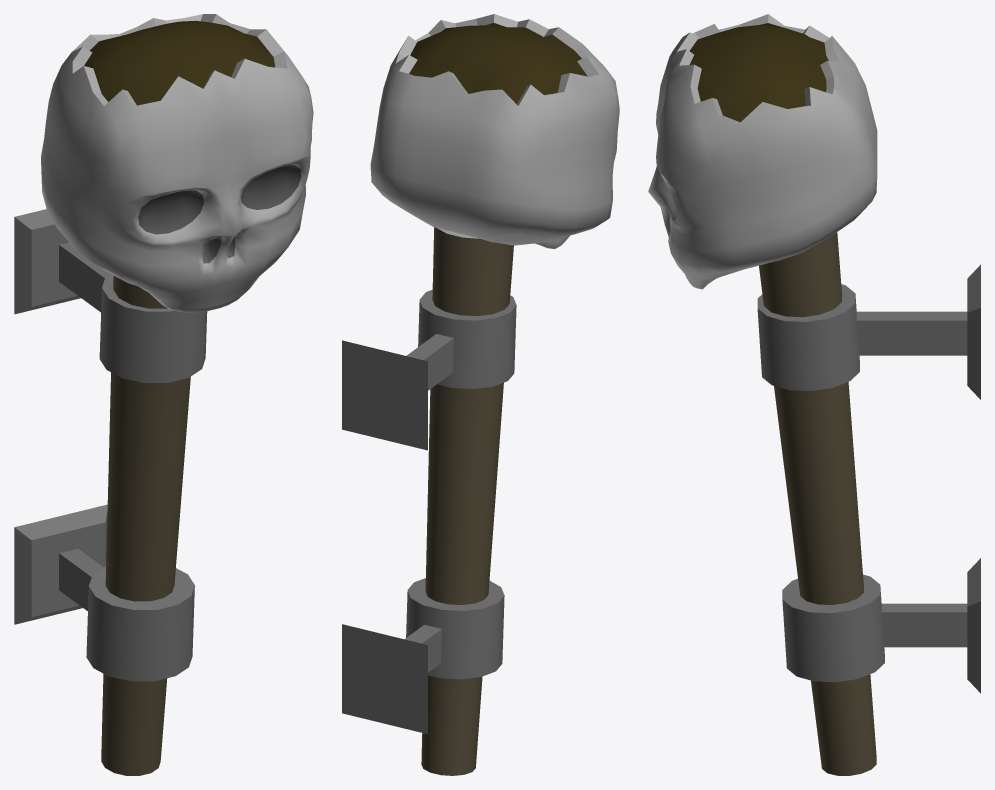
The model's file is Antorcha con Calavera FBX.fbx.
3 views of the same model, side by side, from view 1: azimuth 30°, elevation 25°; view 2: azimuth 150°, elevation 25°; view 3: azimuth 270°, elevation 25° (orthographic). The views are drawn at different scales.
Parts seen in each view (by area): view 1: polySurface191, polySurface188, polySurface190, polySurface194, polySurface192, polySurface193, polySurface189, polySurface195; view 2: polySurface191, polySurface188, polySurface192, polySurface193, polySurface190, polySurface194, polySurface189, polySurface195; view 3: polySurface191, polySurface188, polySurface190, polySurface194, polySurface189, polySurface195, polySurface192, polySurface193.
Boxes of the visible parts, x1,y1,x2,y2 form: polySurface191: [41, 14, 313, 312]; polySurface188: [101, 276, 190, 775]; polySurface190: [86, 566, 194, 681]; polySurface194: [99, 274, 207, 382]; polySurface192: [14, 504, 107, 624]; polySurface193: [14, 209, 80, 314]; polySurface189: [59, 242, 109, 312]; polySurface195: [59, 548, 103, 610]; polySurface191: [370, 14, 619, 249]; polySurface188: [421, 227, 513, 775]; polySurface192: [342, 624, 427, 734]; polySurface193: [342, 340, 427, 450]; polySurface190: [406, 578, 504, 679]; polySurface194: [418, 289, 516, 388]; polySurface189: [406, 334, 453, 390]; polySurface195: [405, 624, 441, 672]; polySurface191: [648, 14, 877, 289]; polySurface188: [759, 232, 876, 775]; polySurface190: [782, 574, 884, 682]; polySurface194: [757, 284, 859, 390]; polySurface189: [856, 311, 967, 355]; polySurface195: [881, 603, 967, 647]; polySurface192: [967, 558, 980, 693]; polySurface193: [967, 264, 980, 399].
Bounding box in the file's own units: 0.00863 × 0.0279 × 0.0116.
